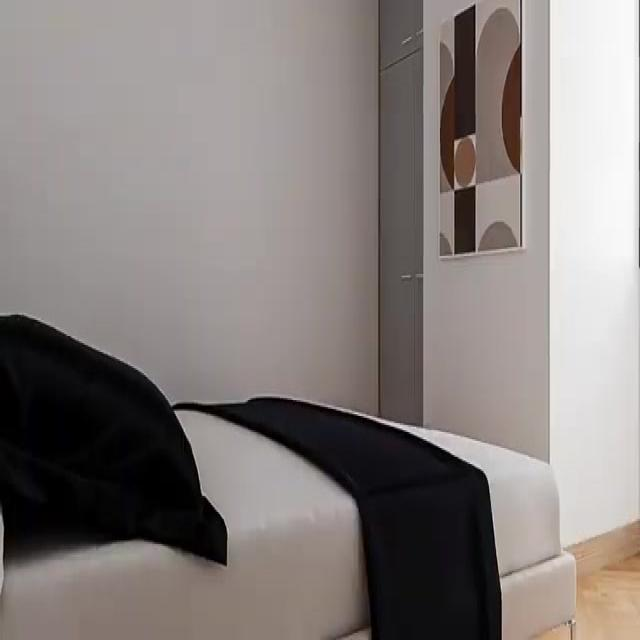obstacle: (0, 311, 576, 638)
